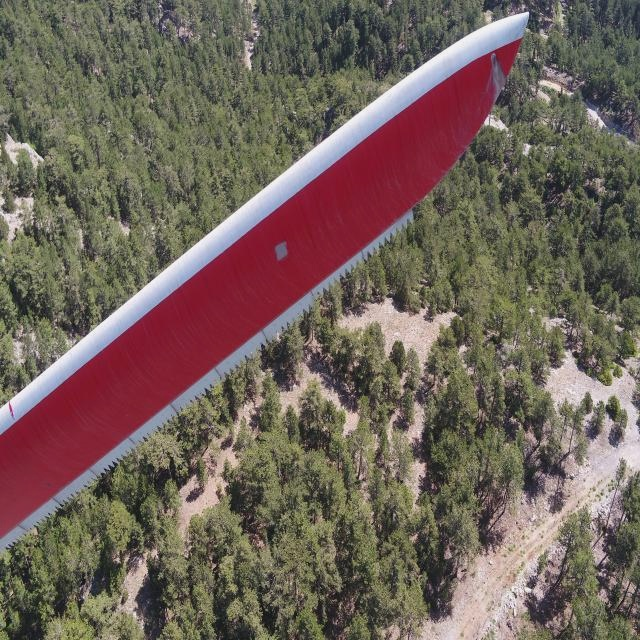Coating_defects: (490, 52, 508, 101), (274, 239, 290, 261)
